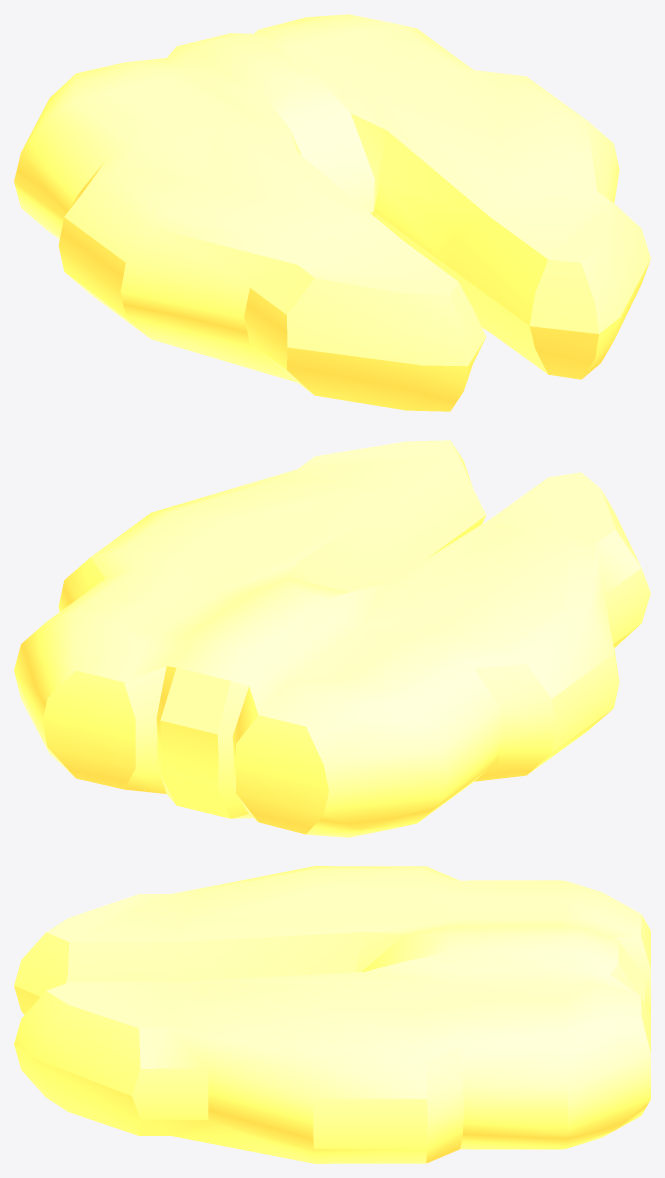
File: 01_ship_heavy_ekudon_aegis.glb
3 renders of one model, top to bottom at view 1: azimuth 30°, elevation 25°; view 2: azimuth 150°, elevation 25°; view 3: azimuth 270°, elevation 25°, orthographic. The views are drawn at different scales.
Parts seen in each view (by area): view 1: 01_ship_heavy_ekudon_aegis; view 2: 01_ship_heavy_ekudon_aegis; view 3: 01_ship_heavy_ekudon_aegis.
Part boxes in pixels (x1,y1,x2,y2): 01_ship_heavy_ekudon_aegis: [14, 14, 650, 411]; 01_ship_heavy_ekudon_aegis: [14, 440, 650, 837]; 01_ship_heavy_ekudon_aegis: [14, 866, 650, 1163].
Bounding box in the file's own units: 0.8842 × 0.2919 × 1.07.
